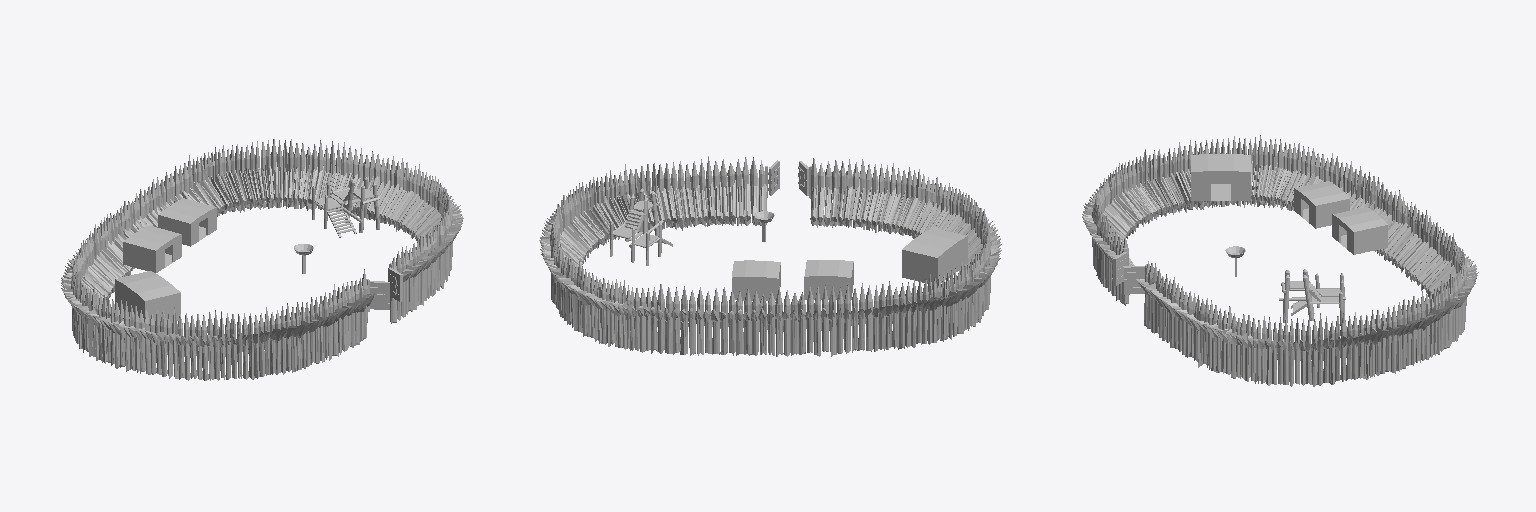
File: stockade.obj
3 views of the same model, side by side, from view 1: azimuth 30°, elevation 25°; view 2: azimuth 150°, elevation 25°; view 3: azimuth 270°, elevation 25° (orthographic).
Parts seen in each view (by area): view 1: Cylinder_Cylinder.004, Cylinder.004_Cylinder.002, Cube.009_Cube, Cube.010_Cube.001, Cube.011, Cylinder.002_Cylinder.007, Cube.008_Cube.010; view 2: Cylinder_Cylinder.004, Cylinder.004_Cylinder.002, Cube.009_Cube, Cube.011, Cube.010_Cube.001, Cylinder.002_Cylinder.007, Cube.008_Cube.010; view 3: Cylinder_Cylinder.004, Cylinder.004_Cylinder.002, Cube.009_Cube, Cube.011, Cube.010_Cube.001, Cylinder.002_Cylinder.007, Cube.008_Cube.010.
Part boxes in pixels (x1,y1,x2,y2): Cylinder_Cylinder.004: (71,139,452,380); Cylinder.004_Cylinder.002: (61,152,463,356); Cube.009_Cube: (115,271,180,322); Cube.010_Cube.001: (123,225,181,272); Cube.011: (158,198,216,246); Cylinder.002_Cylinder.007: (312,177,379,232); Cube.008_Cube.010: (370,267,402,309); Cylinder_Cylinder.004: (550,156,991,356); Cylinder.004_Cylinder.002: (539,169,1001,333); Cube.009_Cube: (902,228,967,284); Cube.011: (732,260,780,300); Cube.010_Cube.001: (804,260,853,299); Cylinder.002_Cylinder.007: (610,188,663,265); Cube.008_Cube.010: (768,160,808,195); Cylinder_Cylinder.004: (1092,135,1467,386); Cylinder.004_Cylinder.002: (1082,150,1478,360); Cube.009_Cube: (1191,154,1250,200); Cube.011: (1332,207,1387,254); Cube.010_Cube.001: (1294,181,1349,228); Cylinder.002_Cylinder.007: (1279,269,1345,325); Cube.008_Cube.010: (1112,252,1144,294).
Size of the model in its own units: 84.1 by 16.75 by 73.23.